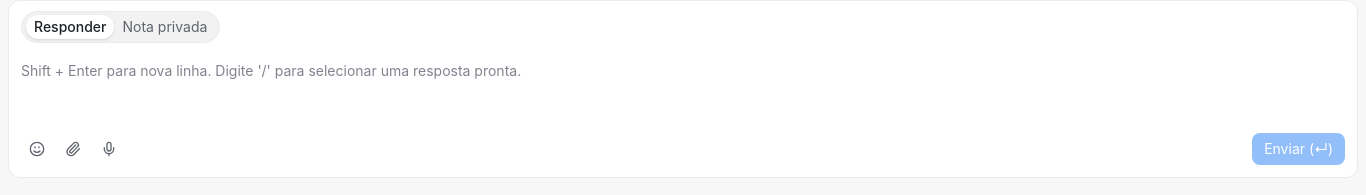
it: composer helpers › fills canned response variables from the conversation and agent
Type "/oi" into the text box named "Mensagem" at (683, 91), box [9,61,1357,121]
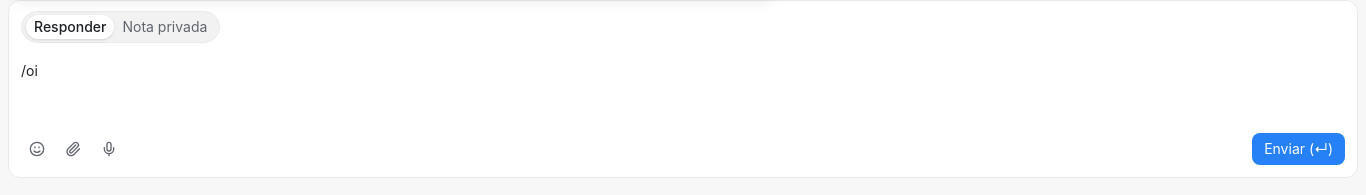
Press Tab
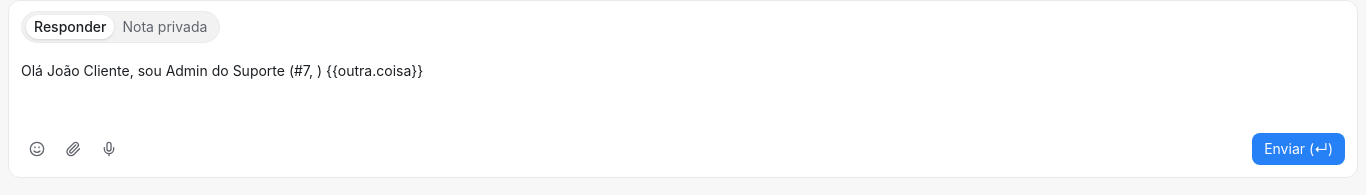
Result: the text box named "Mensagem" holds "Olá João Cliente, sou Admin do Suporte (#7, ) {{outra.coisa}}" at [9,61,1357,121]
